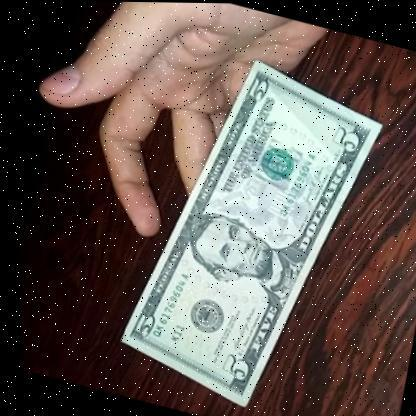five-front: (86, 34, 407, 416)
